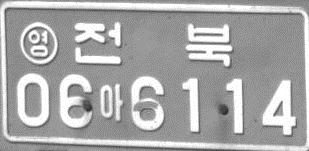0: (15, 71, 51, 127)
1: (218, 78, 255, 135), (174, 77, 209, 133)
4: (261, 79, 296, 136)
6: (130, 75, 165, 132), (58, 73, 92, 128)
아: (98, 83, 125, 121)
영: (19, 21, 58, 66)
전북_D: (73, 22, 232, 69)
